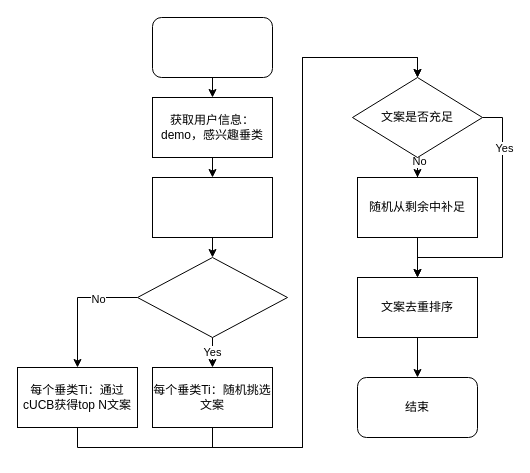
This 530x473 diagram has some shape labels left out. The shapes that lost their labels are listed below. From the top down, each one's centre as x and y in pixels, then its label:
(212,47): 用户进入
(212,207): 获取全局最热文案topX
(212,297): 在其余文案中是否有未explore的arm？
